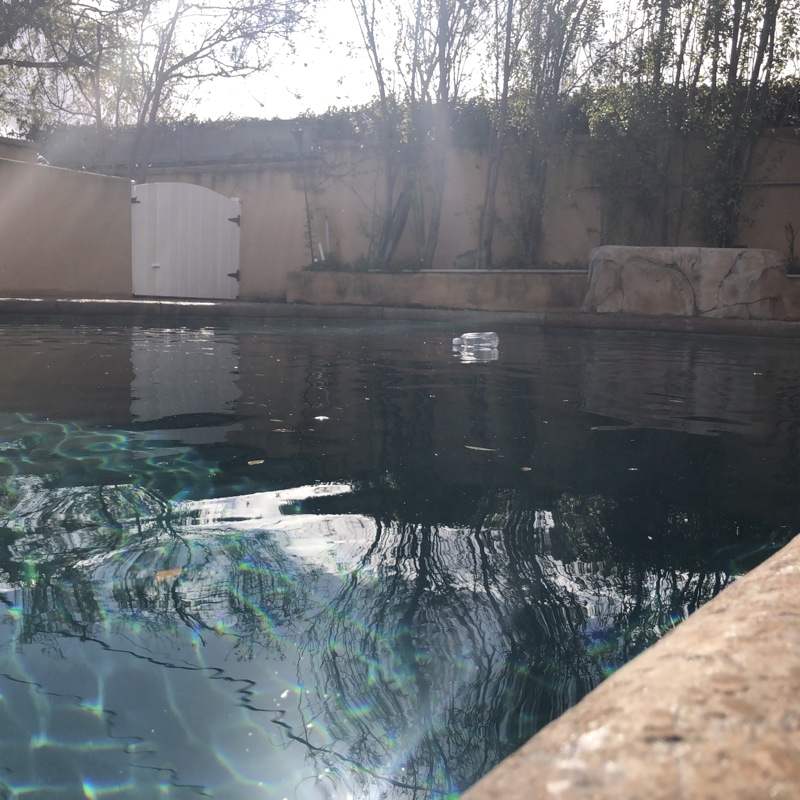Plastic Bottle: (449, 330, 497, 348)
